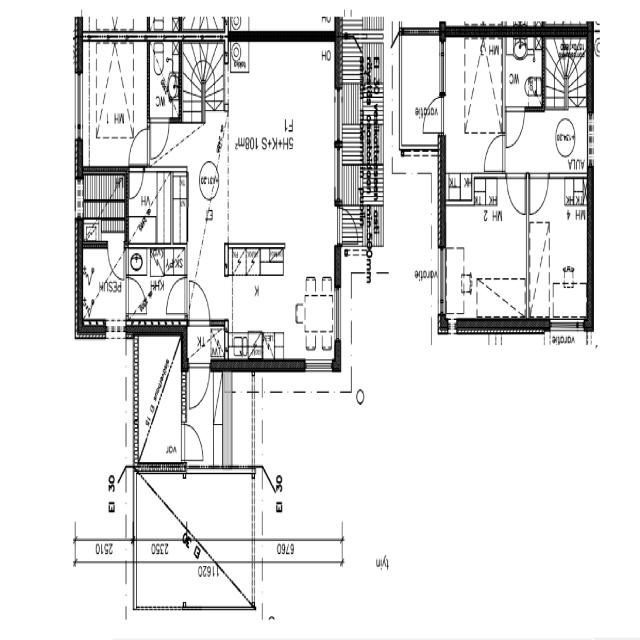door: (185, 356, 212, 412), (504, 168, 530, 217), (147, 114, 172, 164), (526, 168, 551, 216), (503, 102, 527, 150), (180, 418, 206, 462), (187, 279, 211, 326), (421, 93, 446, 137), (127, 124, 150, 168), (335, 202, 358, 246), (165, 273, 187, 317), (483, 132, 504, 176), (106, 236, 127, 275), (126, 277, 147, 313), (127, 163, 145, 202)
window: (334, 200, 355, 248), (546, 313, 583, 337), (301, 352, 335, 376), (331, 88, 343, 146), (75, 72, 85, 140), (331, 140, 342, 200), (332, 285, 342, 343), (586, 114, 596, 171), (103, 318, 128, 340), (437, 40, 447, 94), (438, 246, 447, 303), (444, 314, 459, 334)
zone: (217, 35, 337, 300), (221, 219, 337, 363), (442, 180, 529, 324), (528, 170, 590, 322), (82, 36, 148, 164), (444, 34, 503, 172), (109, 34, 178, 133), (136, 324, 183, 468), (125, 168, 186, 250), (124, 249, 185, 316), (80, 242, 127, 325), (78, 163, 126, 229), (502, 42, 544, 108), (148, 35, 180, 119), (160, 267, 188, 314)
